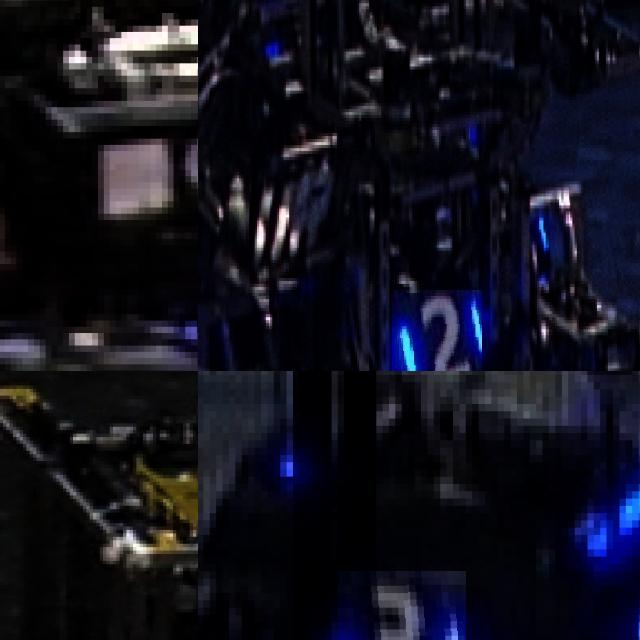B2: (392, 290, 481, 371)
B3: (338, 571, 466, 640)
